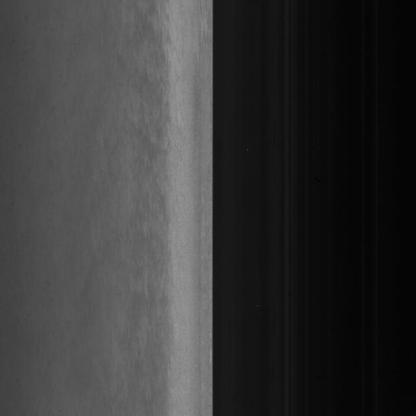silk_spot: (132, 72, 186, 284)
